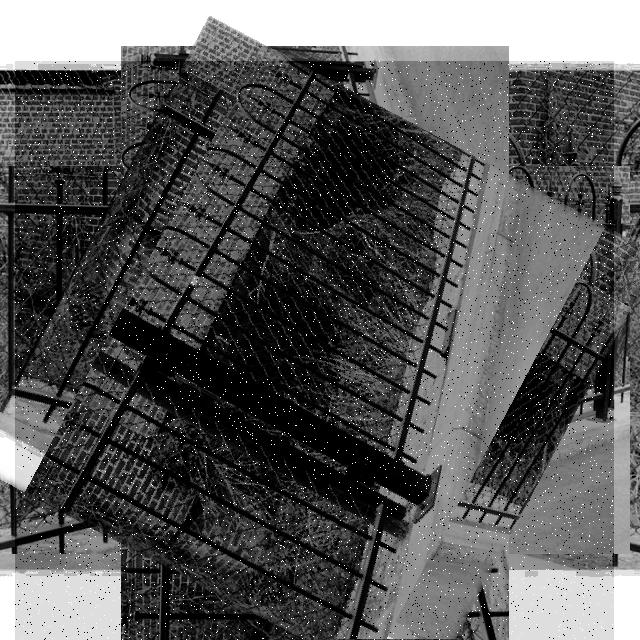fences: (15, 61, 614, 640)
